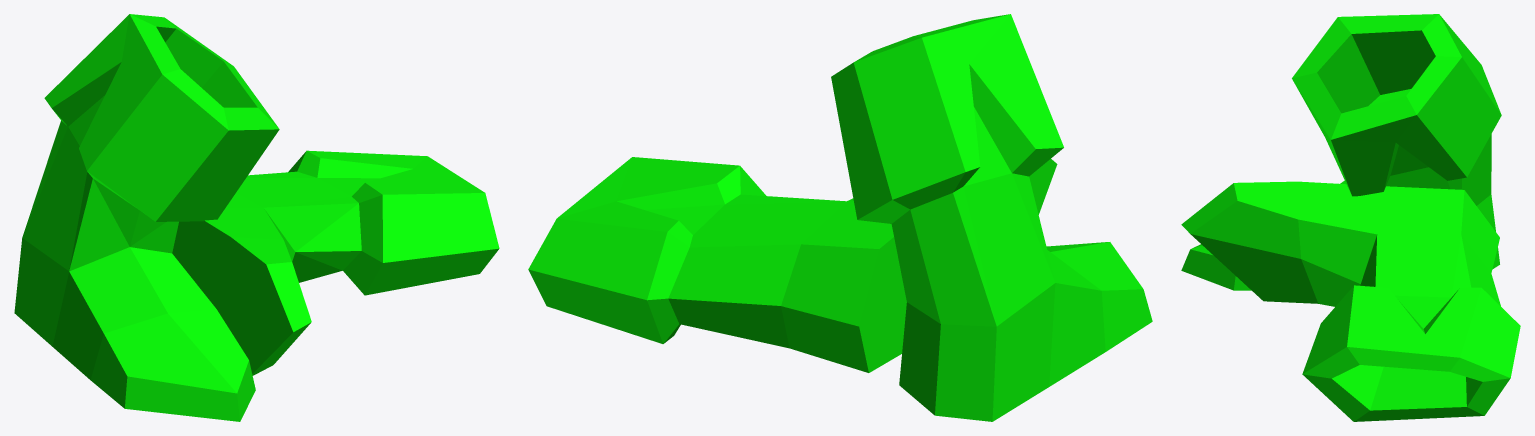
File: SM_Armor_Shoes_B_Placed_Fantasy.fbx
3 renders of one model, left to right at view 1: azimuth 30°, elevation 25°; view 2: azimuth 150°, elevation 25°; view 3: azimuth 270°, elevation 25°, orthographic. The views are drawn at different scales.
Parts seen in each view (by area): view 1: armor-shoes-b-placed-fantasy; view 2: armor-shoes-b-placed-fantasy; view 3: armor-shoes-b-placed-fantasy.
Part boxes in pixels (left/top/right/bottom): armor-shoes-b-placed-fantasy: left=14, top=14, right=499, bottom=421; armor-shoes-b-placed-fantasy: left=528, top=14, right=1152, bottom=421; armor-shoes-b-placed-fantasy: left=1181, top=14, right=1520, bottom=421.
Size of the model in its own units: 0.3909 by 0.2691 by 0.3031.
